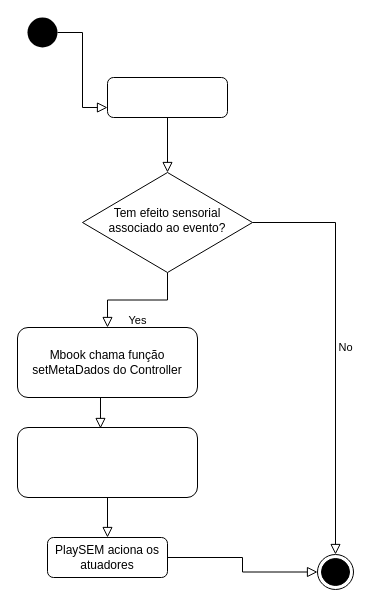
This 371x607 diagram has some shape labels left out. Here are the shapes that lost their labels. From the top down, the box of each, then its label:
(106, 76, 228, 118): Mbook dispara evento
(16, 426, 198, 498): Controller envia dados mpeg-v para interface do PlaySEM
